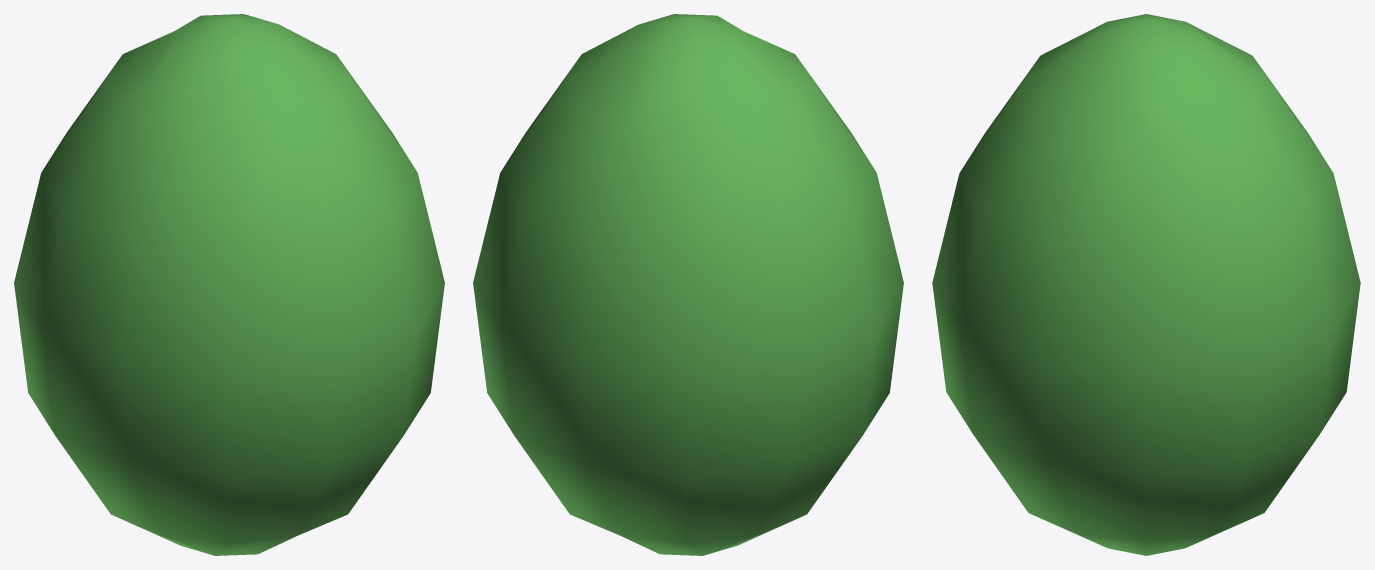
3 views of the same model, side by side, from view 1: azimuth 30°, elevation 25°; view 2: azimuth 150°, elevation 25°; view 3: azimuth 270°, elevation 25° (orthographic).
Parts seen in each view (by area): view 1: G:\FFXIV-MapTools\exports\f1t2\bgcommon\world\eas\001\bgpart; view 2: G:\FFXIV-MapTools\exports\f1t2\bgcommon\world\eas\001\bgpart; view 3: G:\FFXIV-MapTools\exports\f1t2\bgcommon\world\eas\001\bgpart.
Part boxes in pixels (<box>): G:\FFXIV-MapTools\exports\f1t2\bgcommon\world\eas\001\bgpart: <box>14,14,444,555</box>; G:\FFXIV-MapTools\exports\f1t2\bgcommon\world\eas\001\bgpart: <box>473,14,903,555</box>; G:\FFXIV-MapTools\exports\f1t2\bgcommon\world\eas\001\bgpart: <box>932,14,1360,555</box>.
Size of the model in its own units: 0.3479 by 0.4668 by 0.3479.
